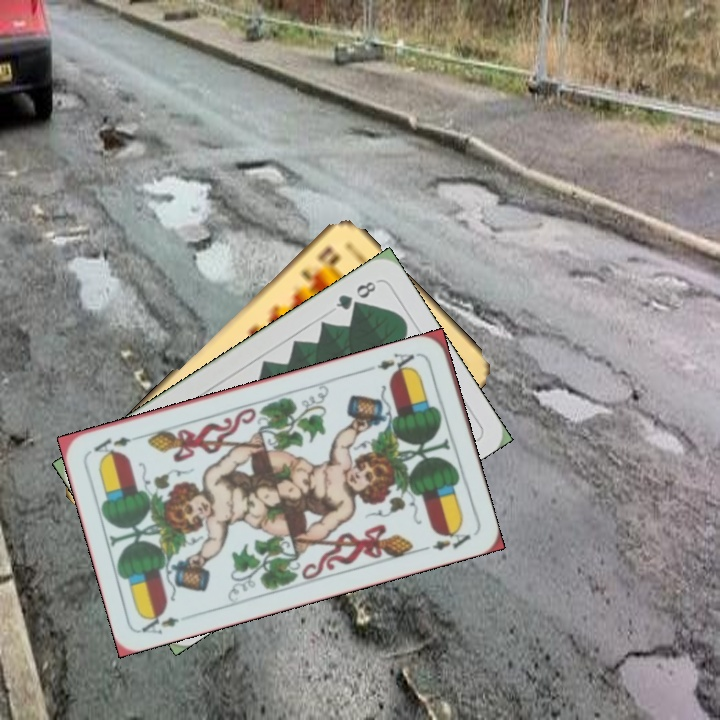E10: (297, 242, 340, 284)
EA: (364, 348, 423, 378), (136, 608, 182, 637)
G8: (331, 277, 379, 313)
